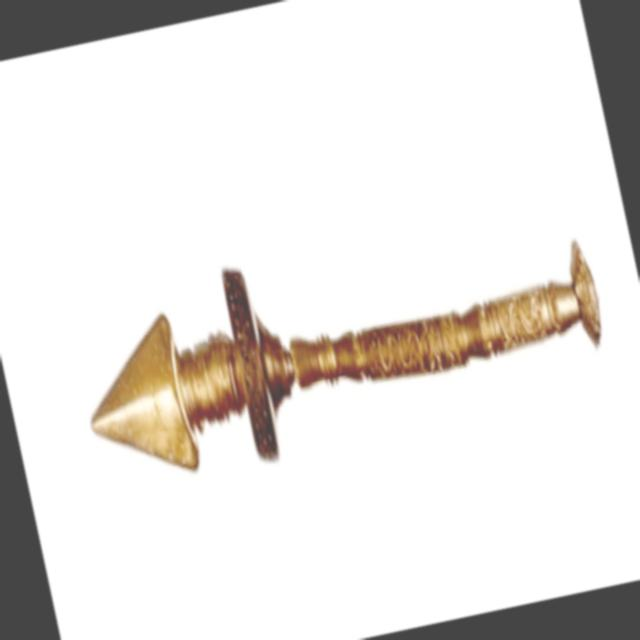spear: (46, 145, 636, 547)
